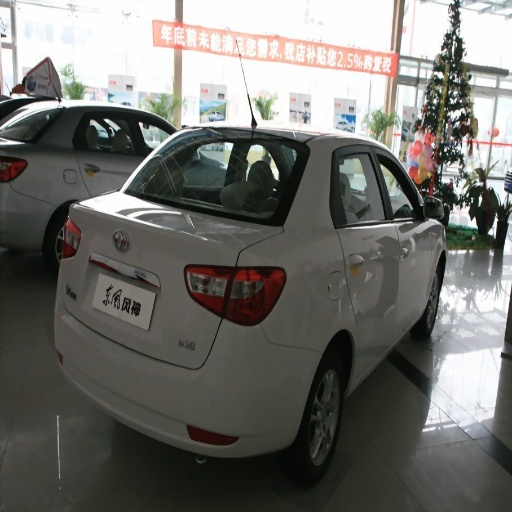back_bumper: (62, 300, 321, 459)
back_right_door: (333, 143, 398, 341)
tailgate: (117, 200, 241, 365)
trunk: (67, 212, 191, 367), (155, 271, 224, 342), (216, 229, 271, 286)
